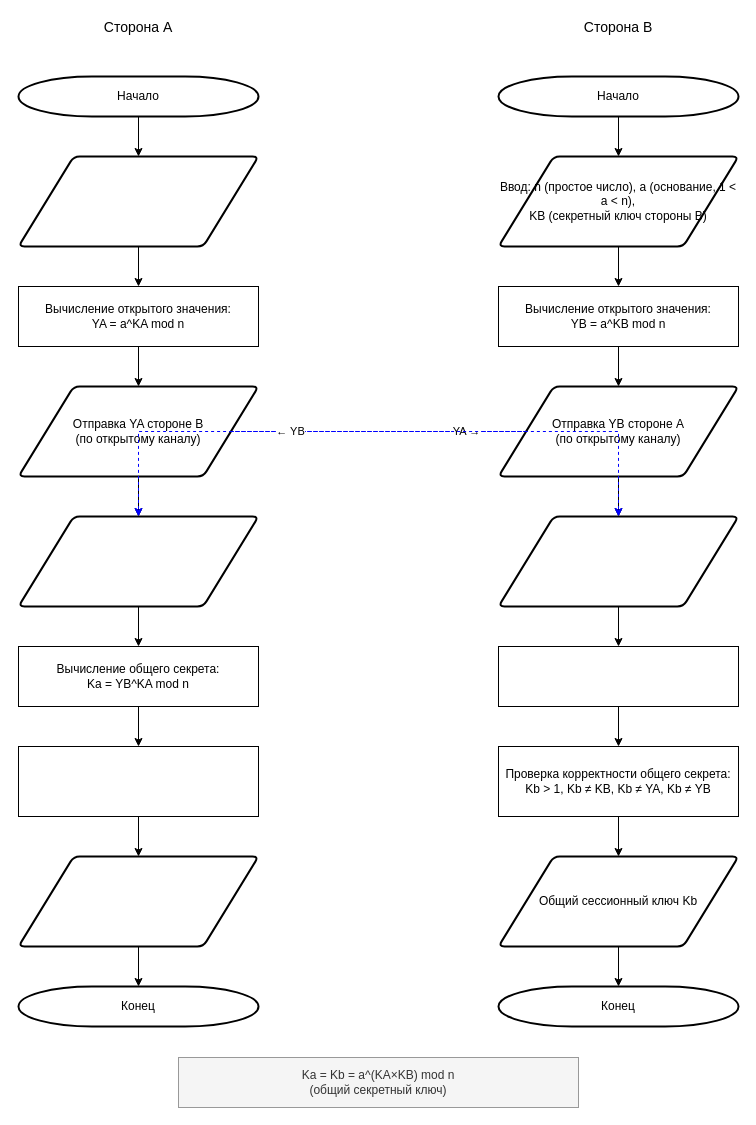
Image size: 756x1125. Some labels were removed from this diagram. The shapes that lost their labels are listed below. From the top down, each one's centre as x and y in pixels, then its label:
At pixel 138 201: "Ввод: n (простое число), a (основание, 1 < a < n), KA (секретный ключ стороны A)".
At pixel 138 561: "Получение YB от стороны B (по открытому каналу)".
At pixel 618 561: "Получение YA от стороны A (по открытому каналу)".
At pixel 618 676: "Вычисление общего секрета: Kb = YA^KB mod n".
At pixel 138 781: "Проверка корректности общего секрета: Ka > 1, Ka ≠ KA, Ka ≠ YA, Ka ≠ YB".
At pixel 138 901: "Общий сессионный ключ Ka".
